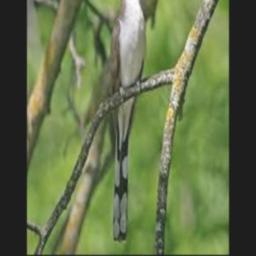Cuckoo: (108, 0, 151, 242)
